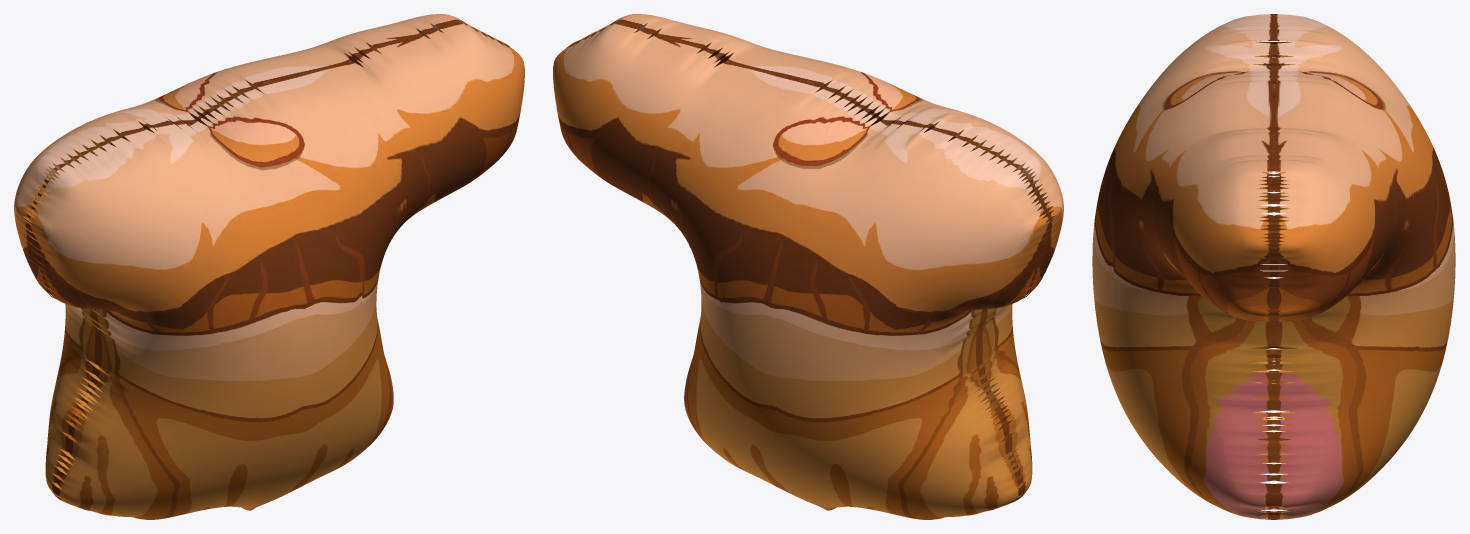
Rendered from caprock_mesa.glb.
3 views of the same model, side by side, from view 1: azimuth 30°, elevation 25°; view 2: azimuth 150°, elevation 25°; view 3: azimuth 270°, elevation 25° (orthographic). The views are drawn at different scales.
Visible parts, largest first — view 1: caprock_mesa; view 2: caprock_mesa; view 3: caprock_mesa.
Part boxes in pixels (x1,y1,x2,y2): caprock_mesa: (14,14,524,519); caprock_mesa: (553,14,1063,519); caprock_mesa: (1092,14,1455,519).
Size of the model in its own units: 0.9882 by 0.7989 by 0.6005.
Materials: 1 (1 with a texture image).
